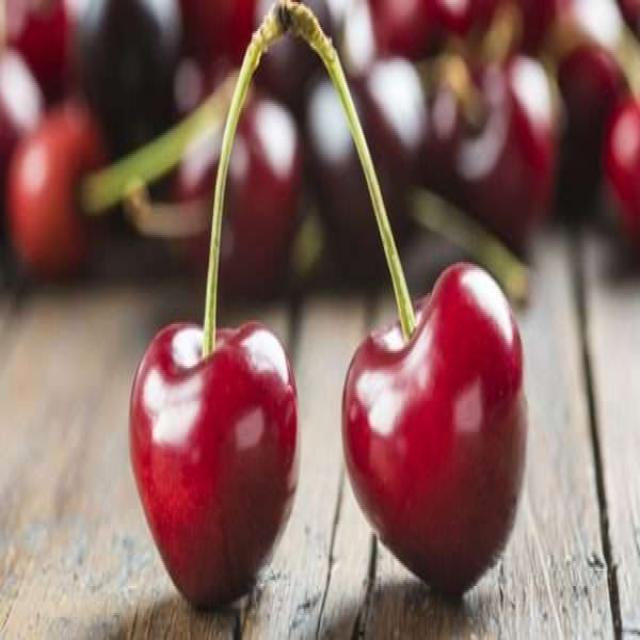cherry: (126, 4, 529, 605)
